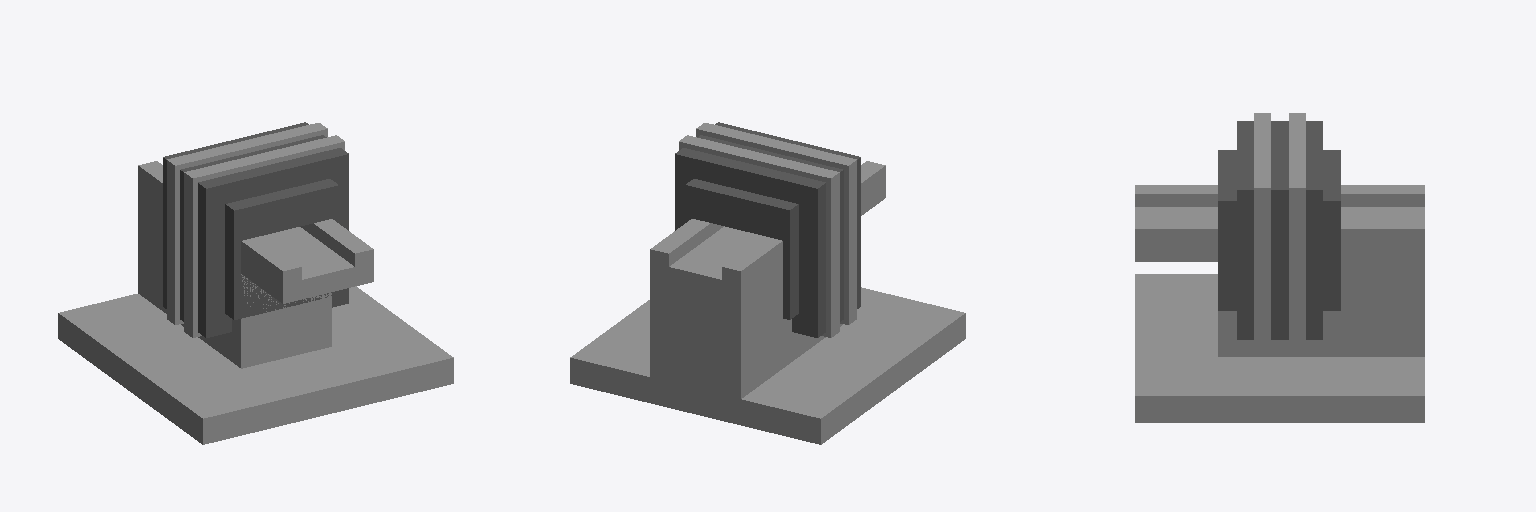
The model's file is Horizontal.obj.
3 renders of one model, left to right at view 1: azimuth 30°, elevation 25°; view 2: azimuth 150°, elevation 25°; view 3: azimuth 270°, elevation 25°, orthographic.
Visible parts, largest first — view 1: FloorPlate_Cube.005, Conduit_Cube.004, Pump_Layer5_Cube.010, Base_Cube.006, Pump_Input_Cube.009, Pump_Layer4_Cube.008, Pump_Layer2_Cube.012, Pump_Layer3_Cube.002, Pump_Layer1_Cube.011; view 2: FloorPlate_Cube.005, Base_Cube.006, Conduit_Cube.004, Pump_Layer1_Cube.011, Pump_Output_Cube.001, Pump_Layer2_Cube.012, Pump_Layer4_Cube.008, Pump_Layer3_Cube.002, Pump_Layer5_Cube.010; view 3: FloorPlate_Cube.005, Conduit_Cube.004, Base_Cube.006, Pump_Layer4_Cube.008, Pump_Layer2_Cube.012, Pump_Layer3_Cube.002, Pump_Layer5_Cube.010, Pump_Layer1_Cube.011, Pump_Input_Cube.009, Pump_Output_Cube.001.
Boxes of the visible parts, <box> form: FloorPlate_Cube.005: <box>58,286,453,444</box>; Conduit_Cube.004: <box>138,161,373,303</box>; Pump_Layer5_Cube.010: <box>198,148,348,337</box>; Base_Cube.006: <box>138,198,331,368</box>; Pump_Input_Cube.009: <box>225,179,338,319</box>; Pump_Layer4_Cube.008: <box>184,135,344,337</box>; Pump_Layer2_Cube.012: <box>167,123,327,324</box>; Pump_Layer3_Cube.002: <box>180,135,326,321</box>; Pump_Layer1_Cube.011: <box>163,122,308,308</box>; FloorPlate_Cube.005: <box>570,287,965,444</box>; Base_Cube.006: <box>650,274,842,418</box>; Conduit_Cube.004: <box>650,161,885,303</box>; Pump_Layer1_Cube.011: <box>675,148,825,337</box>; Pump_Output_Cube.001: <box>685,179,798,319</box>; Pump_Layer2_Cube.012: <box>679,135,839,337</box>; Pump_Layer4_Cube.008: <box>696,123,856,324</box>; Pump_Layer3_Cube.002: <box>697,135,843,321</box>; Pump_Layer5_Cube.010: <box>715,122,860,308</box>; FloorPlate_Cube.005: <box>1135,274,1424,422</box>; Conduit_Cube.004: <box>1135,185,1424,261</box>; Base_Cube.006: <box>1218,262,1424,356</box>; Pump_Layer4_Cube.008: <box>1254,113,1270,346</box>; Pump_Layer2_Cube.012: <box>1289,113,1305,346</box>; Pump_Layer3_Cube.002: <box>1271,121,1288,339</box>; Pump_Layer5_Cube.010: <box>1237,121,1253,339</box>; Pump_Layer1_Cube.011: <box>1306,121,1322,339</box>; Pump_Input_Cube.009: <box>1218,150,1236,310</box>; Pump_Output_Cube.001: <box>1323,150,1340,310</box>.
Size of the model in its own units: 1 by 0.804 by 1.